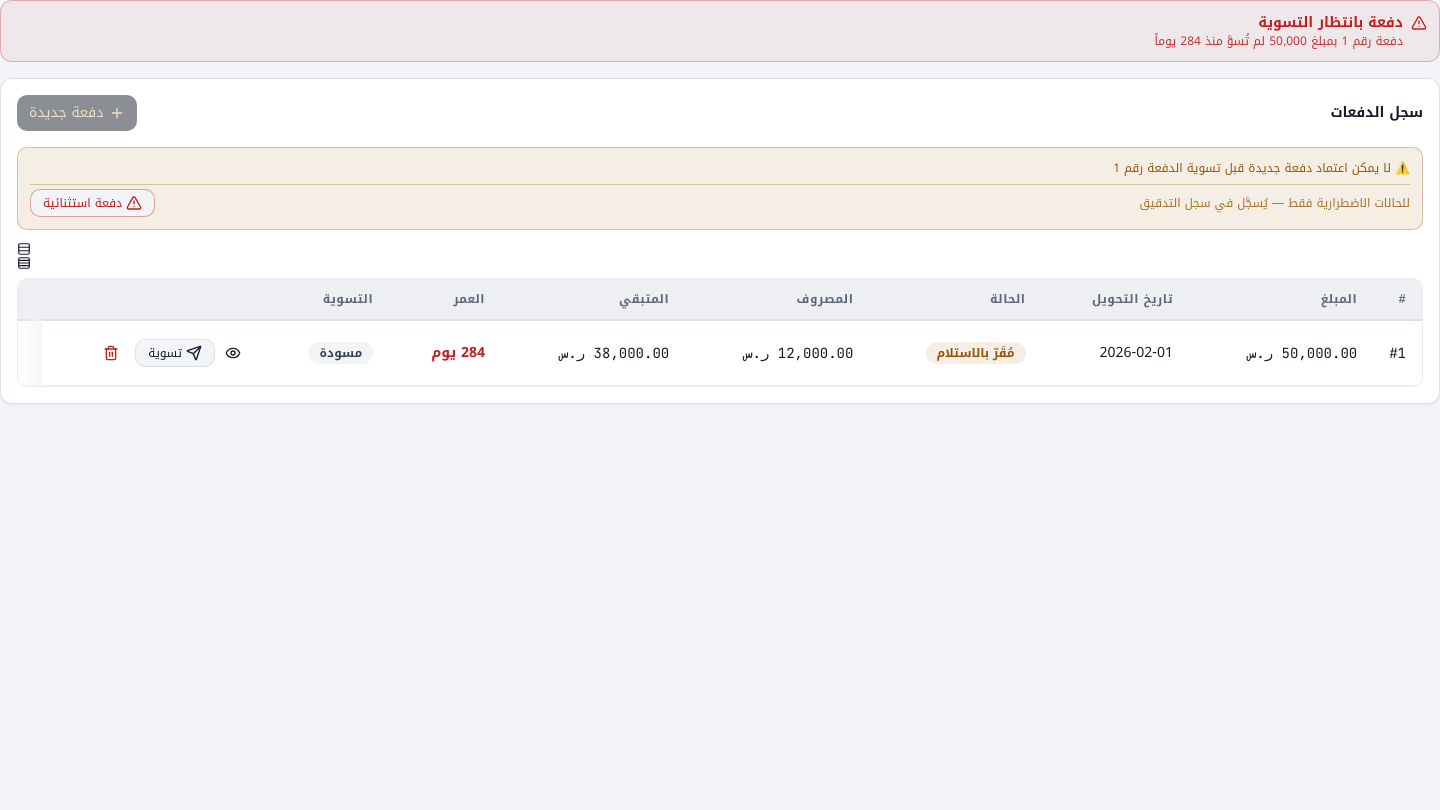
Test: deleting a fund › names what will be unlinked before asking
This screenshot has width=1440, height=810.
Click the button named "حذف" at {"x": 111, "y": 353}, box [91,333,131,373]
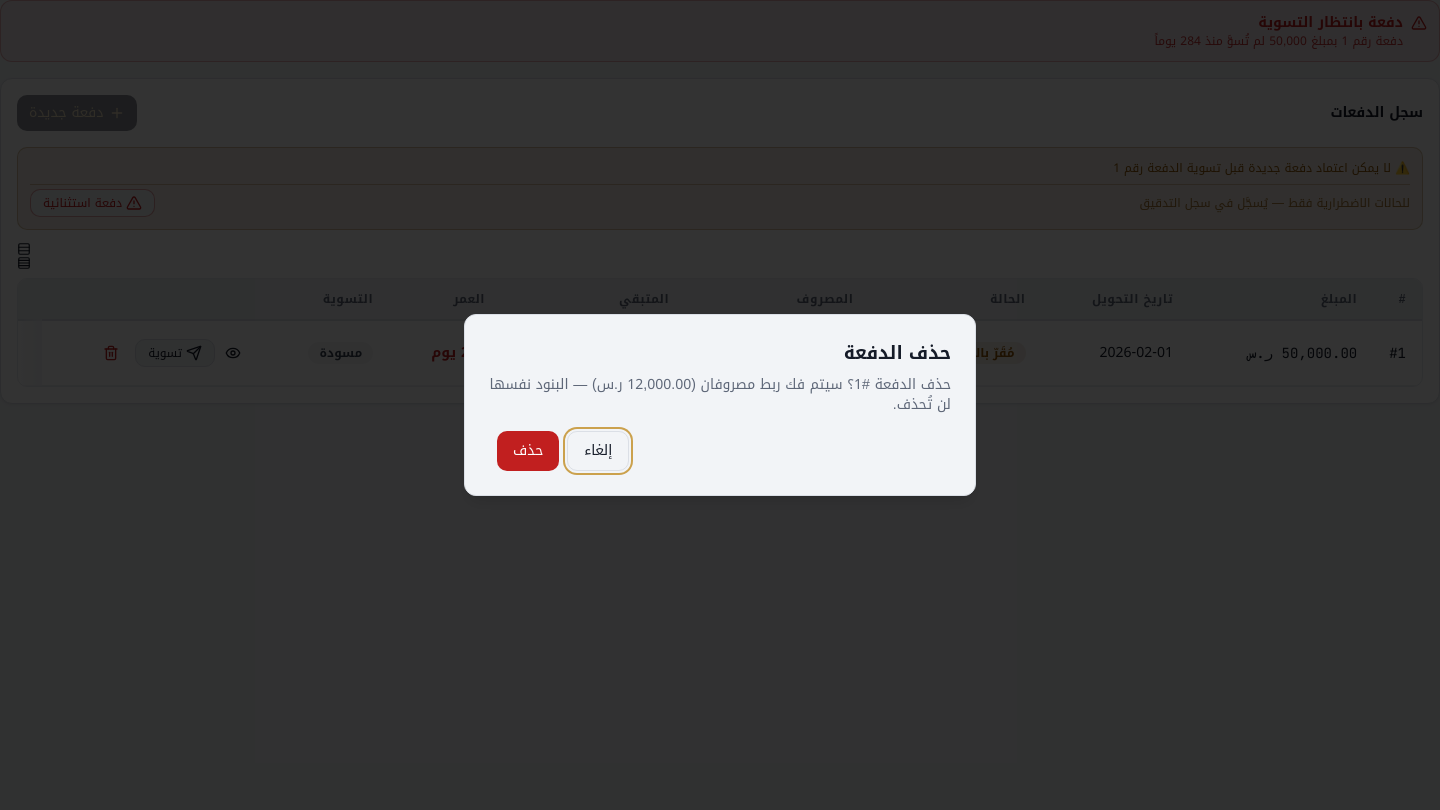
Result: the dialog shows "مصروفان (12,000.00 ر.س)" at [490,371,951,418]
